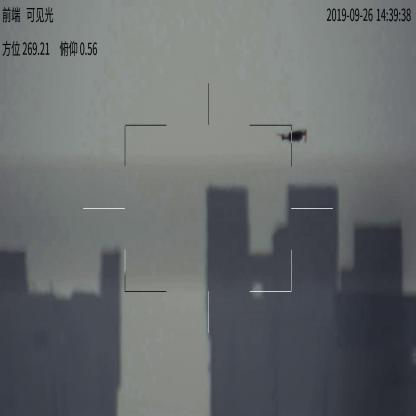uav: (277, 126, 310, 145)
